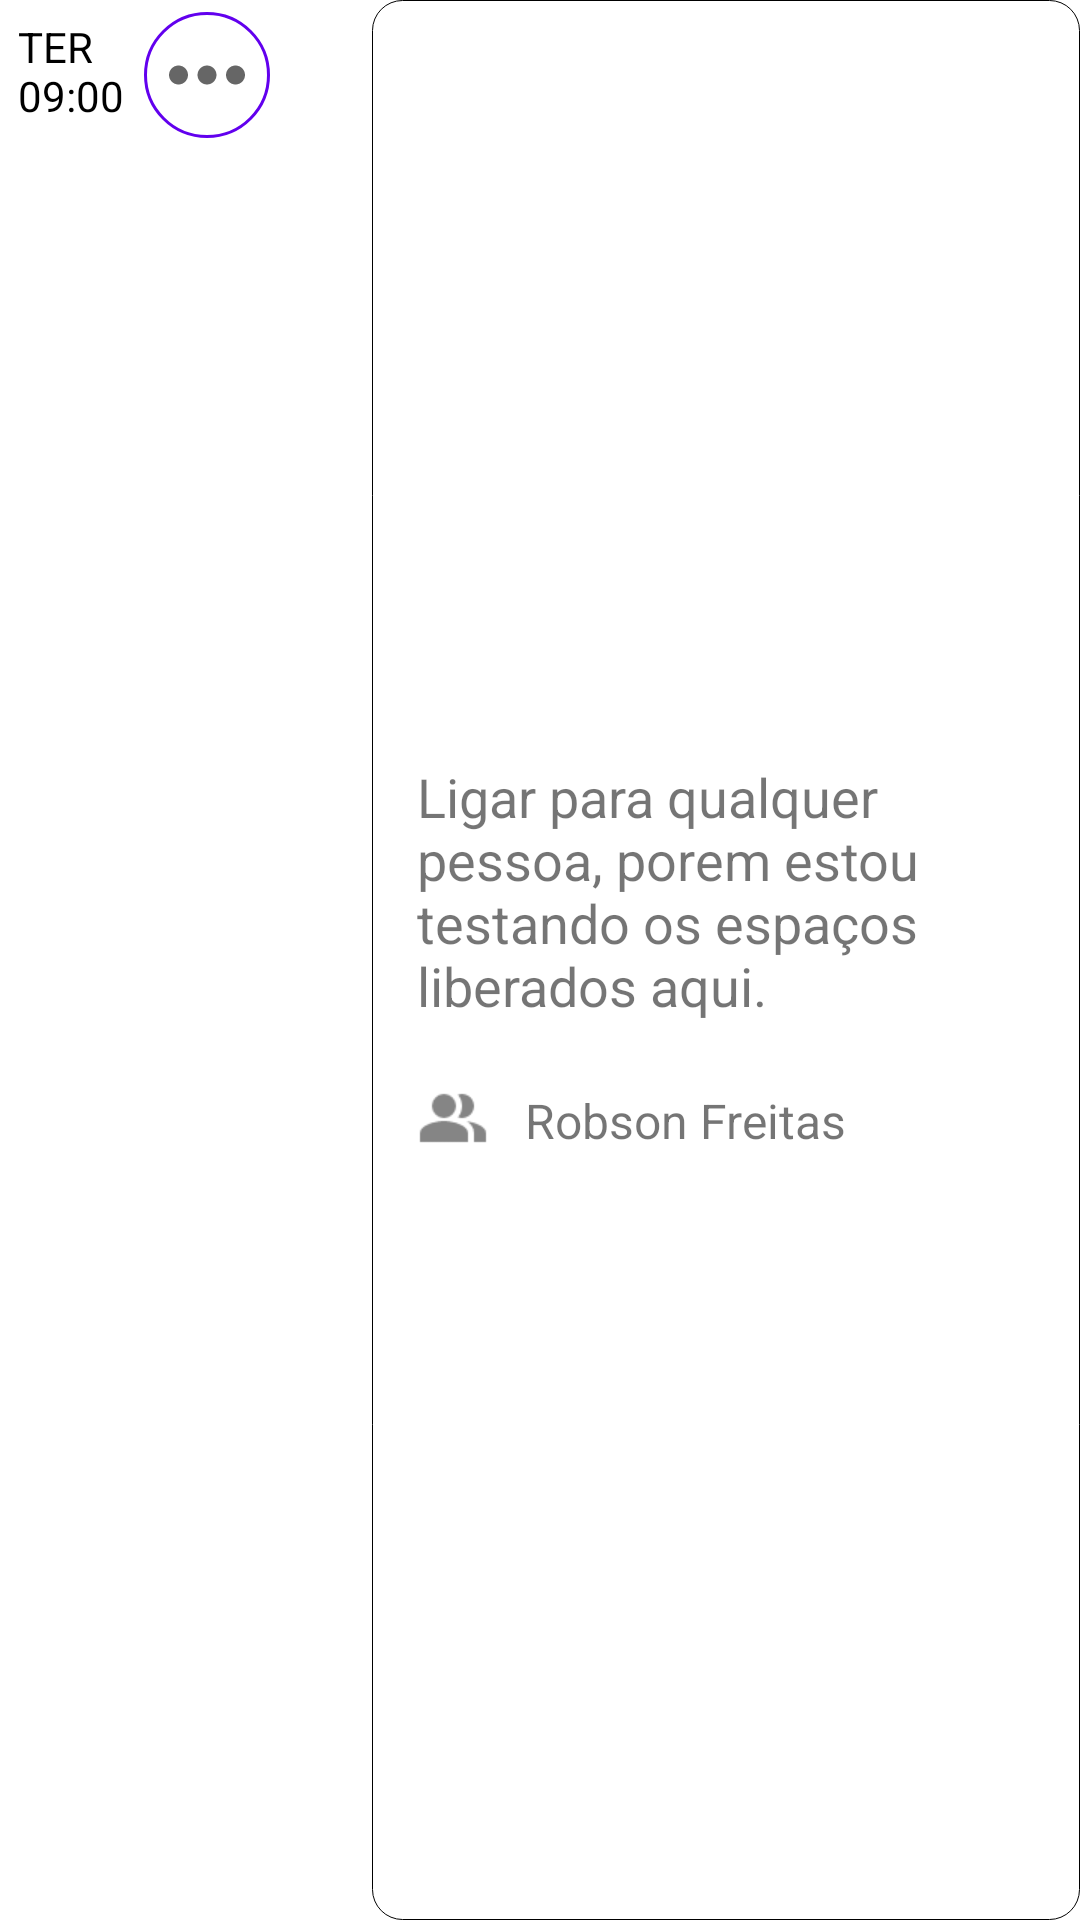

Icon click points for this 1080 x 1920 phone screenshot, format [x,y]:
more horiz: [207,75]
people: [453,1118]
